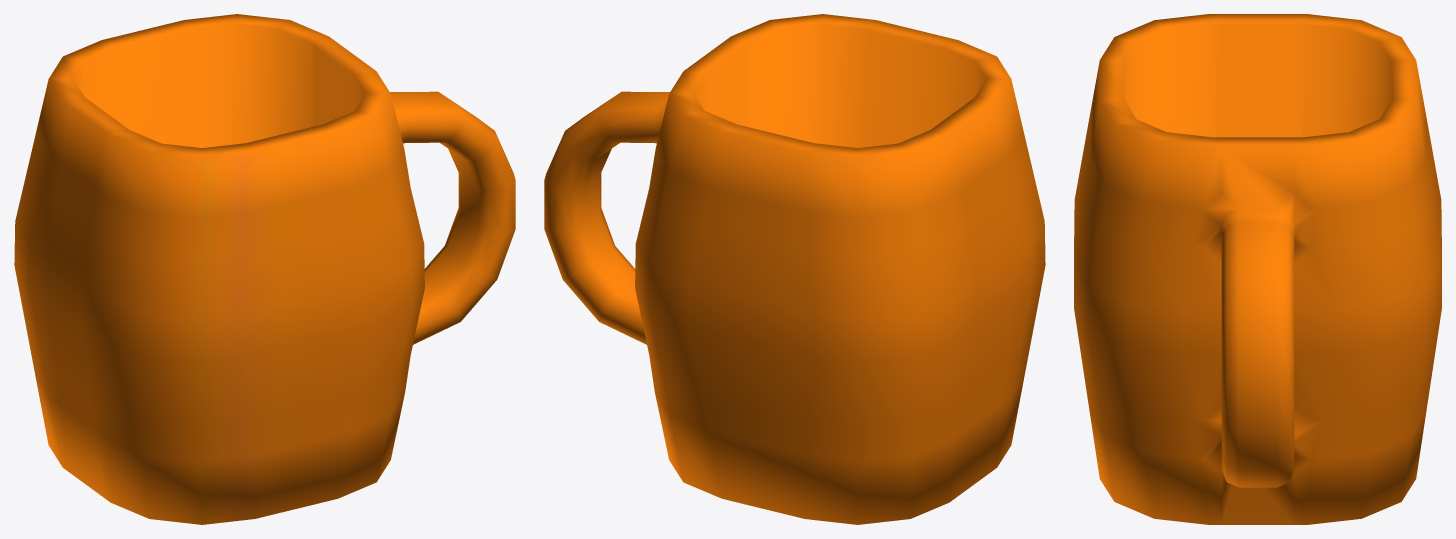
Rendered from Gelas3.fbx.
3 renders of one model, left to right at view 1: azimuth 30°, elevation 25°; view 2: azimuth 150°, elevation 25°; view 3: azimuth 270°, elevation 25°, orthographic. The views are drawn at different scales.
Visible parts, largest first — view 1: Gelas3; view 2: Gelas3; view 3: Gelas3.
Boxes of the visible parts, x1,y1,x2,y2 form: Gelas3: (14, 14, 515, 524); Gelas3: (544, 14, 1045, 524); Gelas3: (1074, 14, 1441, 524).
Size of the model in its own units: 40.13 by 31.96 by 28.25.
